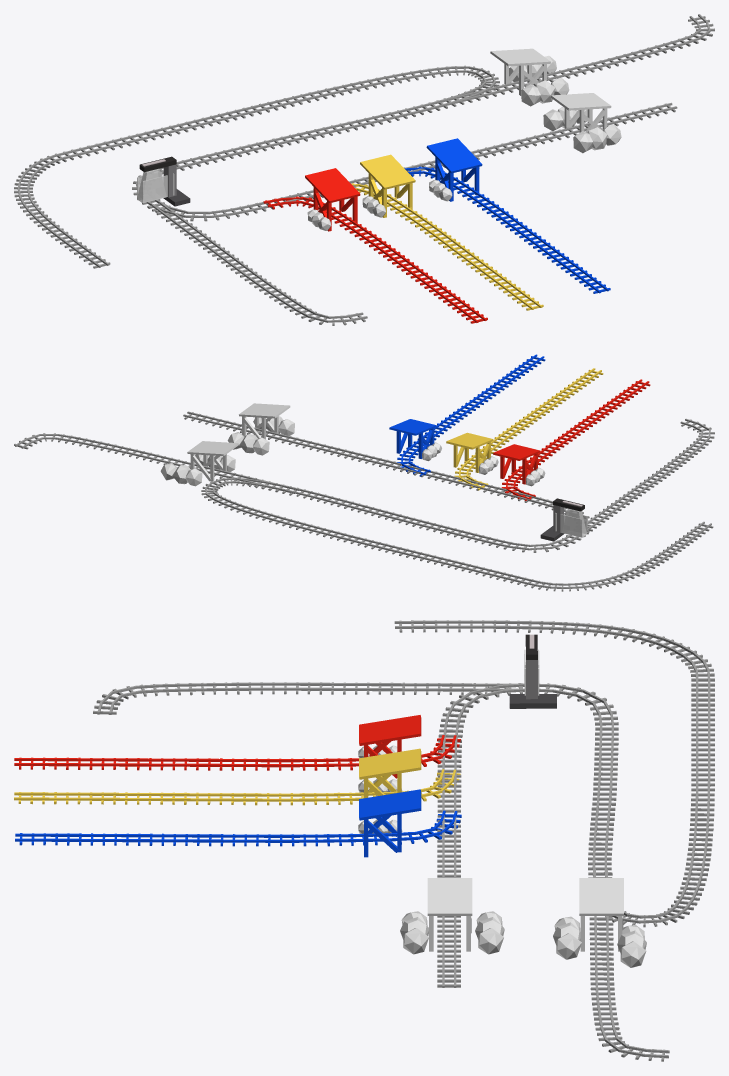
File: MapD1.fbx
3 views of the same model, one above another, from view 1: azimuth 30°, elevation 25°; view 2: azimuth 150°, elevation 25°; view 3: azimuth 270°, elevation 25° (orthographic). The views are drawn at different scales.
Parts seen in each view (by area): view 1: MainRail, OutRed.001, Outblue, OutRed, OutGOld, Cube.008, Cube.005, Cube.006, Cube.002, Cube.007, Sphere.006, LazerBeam (+2 smaller); view 2: MainRail, OutRed.001, Outblue, OutGOld, OutRed, Cube.007, Cube.002, Cube.005, Cube.008, Cube.006, Sphere.009, LazerBeam (+1 smaller); view 3: MainRail, Outblue, OutGOld, OutRed.001, OutRed, Cube.005, Cube.002, Cube.007, Cube.006, Cube.008, Sphere.007, Sphere.006 (+2 smaller).
Part boxes in pixels (x1,y1,x2,y2): MainRail: (14, 65, 677, 325); OutRed.001: (263, 196, 487, 323); Outblue: (404, 166, 610, 293); OutRed: (423, 14, 714, 112); OutGOld: (351, 183, 543, 310); Cube.008: (305, 168, 360, 231); Cube.005: (426, 138, 482, 201); Cube.006: (360, 154, 415, 217); Cube.002: (550, 93, 611, 132); Cube.007: (490, 48, 550, 95); Sphere.006: (573, 124, 621, 153); LazerBeam: (137, 168, 167, 203); MainRail: (183, 411, 714, 591); OutRed.001: (501, 379, 650, 500); Outblue: (397, 354, 545, 476); OutGOld: (454, 368, 603, 490); OutRed: (14, 433, 299, 495); Cube.007: (187, 441, 238, 481); Cube.002: (239, 403, 290, 439); Cube.005: (389, 419, 436, 458); Cube.008: (493, 444, 540, 484); Cube.006: (446, 432, 493, 472); Sphere.009: (160, 462, 202, 486); LazerBeam: (560, 508, 587, 537); MainRail: (93, 620, 714, 987); Outblue: (15, 810, 461, 846); OutGOld: (14, 769, 460, 805); OutRed.001: (14, 735, 460, 770); OutRed: (589, 868, 669, 1061); Cube.005: (359, 789, 421, 857); Cube.002: (427, 878, 472, 951); Cube.007: (579, 878, 623, 951); Cube.006: (359, 748, 421, 798); Cube.008: (359, 715, 421, 778); Sphere.007: (475, 911, 504, 954); Sphere.006: (400, 911, 428, 954).
Size of the model in its own units: 17548 by 1165 by 11862.
